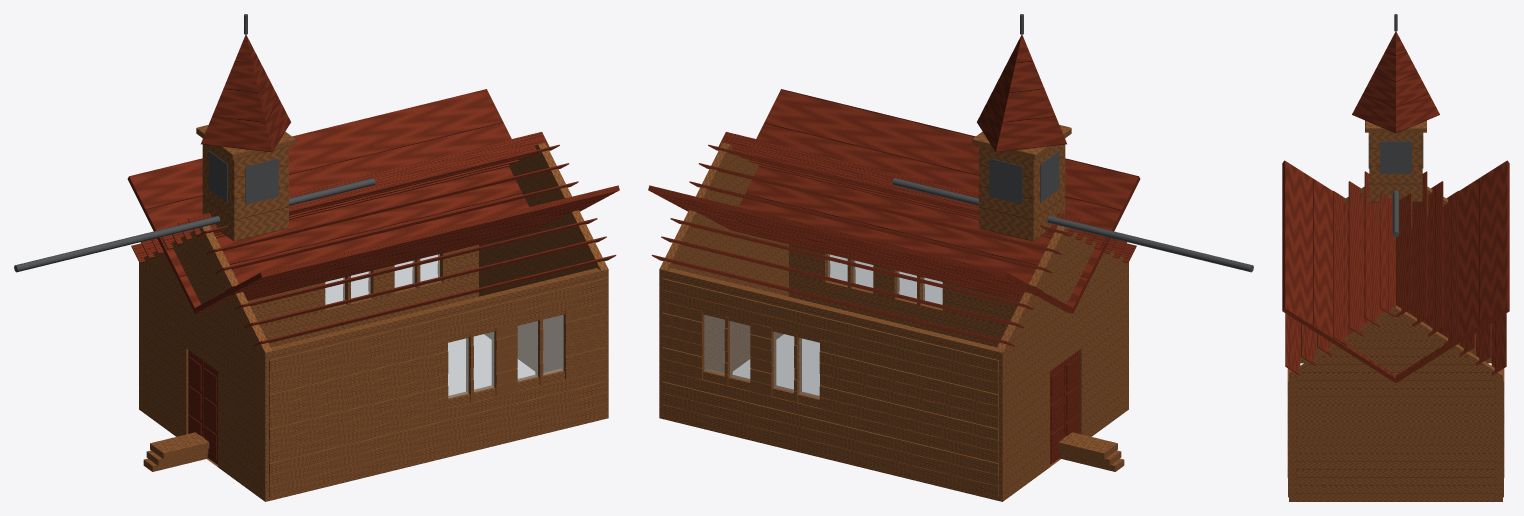
The model's file is wild-west-frontier-town-frontier-church-7a5a34bd__30100.glb.
3 renders of one model, left to right at view 1: azimuth 30°, elevation 25°; view 2: azimuth 150°, elevation 25°; view 3: azimuth 270°, elevation 25°, orthographic. The views are drawn at different scales.
Visible parts, largest first — view 1: frontier-church, door-church; view 2: frontier-church, door-church; view 3: frontier-church.
Part boxes in pixels (x1,y1,x2,y2): frontier-church: (14, 14, 619, 501); door-church: (188, 350, 217, 464); frontier-church: (648, 14, 1253, 501); door-church: (1050, 350, 1079, 464); frontier-church: (1282, 14, 1509, 501).
Bounding box in the file's own units: 14.7 × 11.26 × 6.39.
4 materials, 2 textured.
